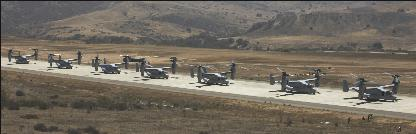Tornado: (342, 69, 412, 101), (268, 65, 334, 94), (181, 60, 247, 84), (125, 56, 183, 78), (82, 52, 138, 72), (38, 48, 90, 68), (1, 45, 46, 63)
